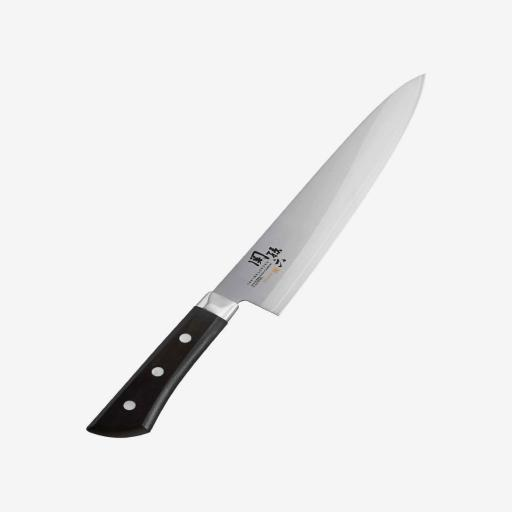knife: (76, 76, 434, 450)
